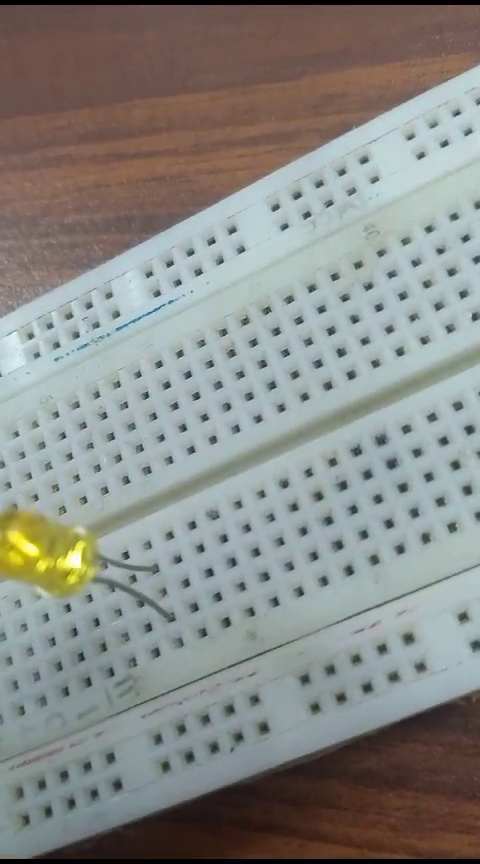LED: (4, 491, 168, 637)
